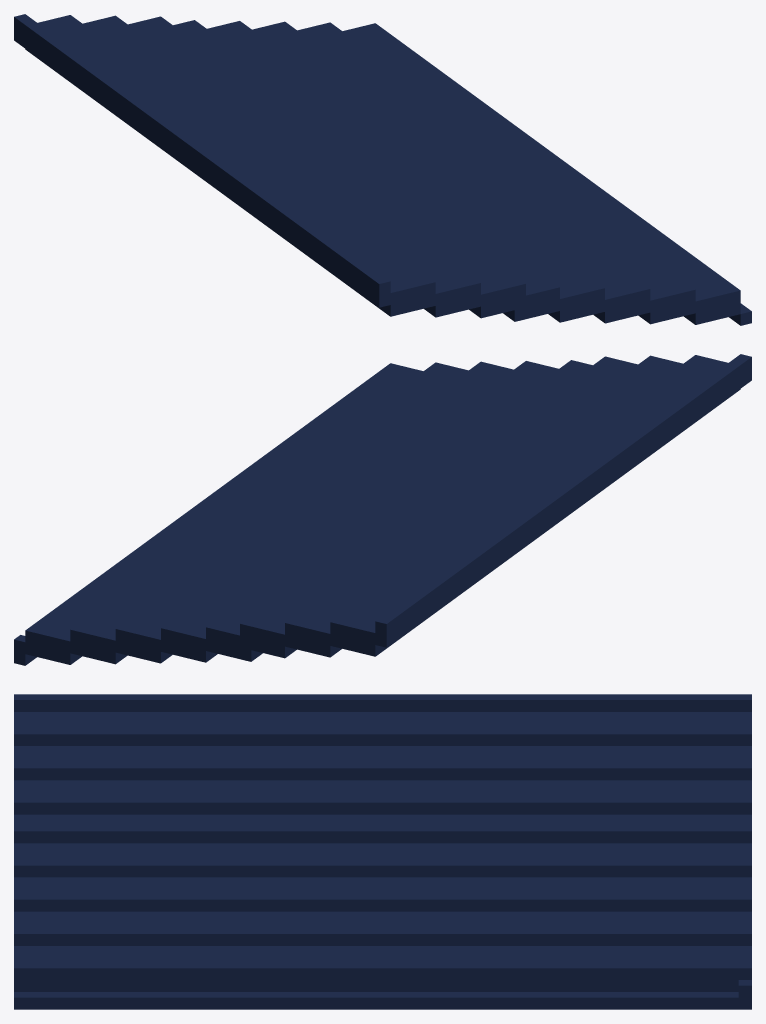
The model's file is minivan_bonnet.glb.
3 views of the same model, one above another, from view 1: azimuth 30°, elevation 25°; view 2: azimuth 150°, elevation 25°; view 3: azimuth 270°, elevation 25° (orthographic).
Visible parts, largest first — view 1: body:compound; view 2: body:compound; view 3: body:compound.
Boxes of the visible parts, left/top/right/bottom form: body:compound: left=14, top=14, right=751, bottom=325; body:compound: left=14, top=354, right=751, bottom=665; body:compound: left=14, top=694, right=751, bottom=1009.
Bounding box in the file's own units: 1.03 × 0.3438 × 1.75.
